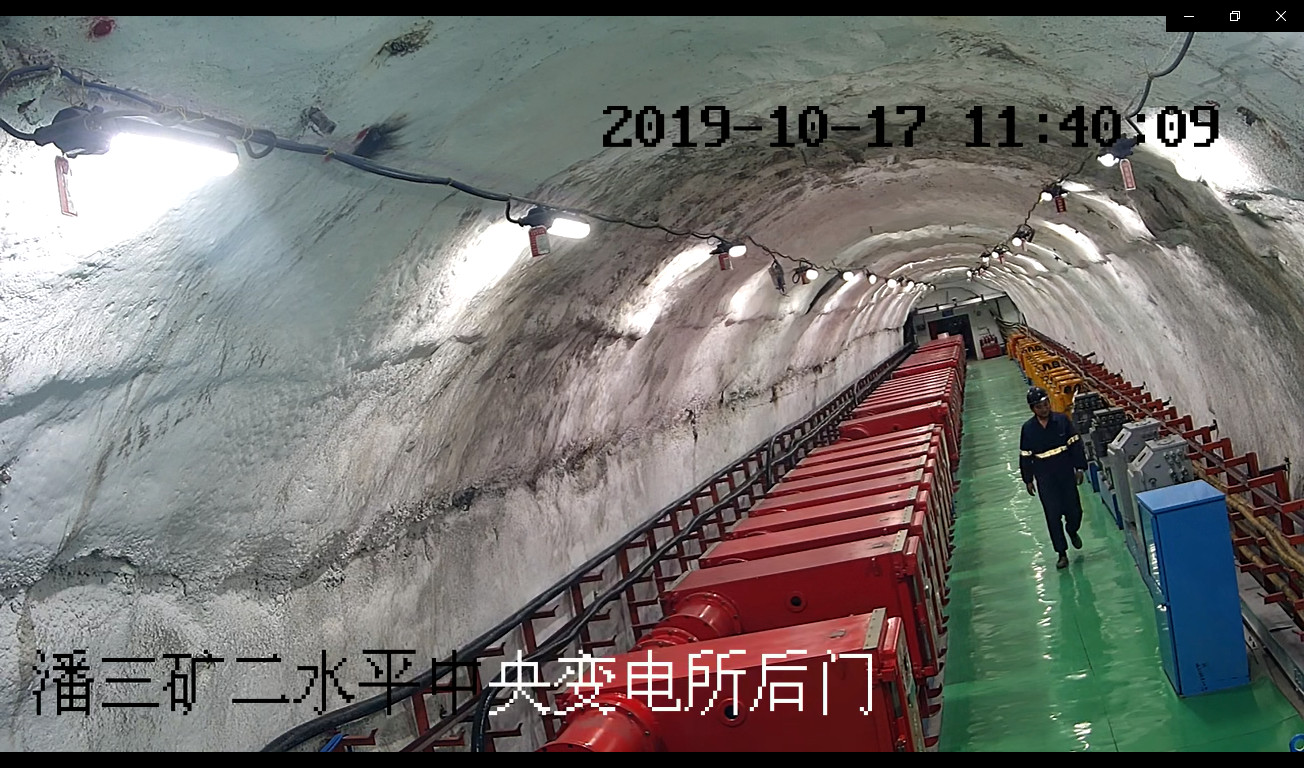helmet: (1026, 385, 1048, 404)
